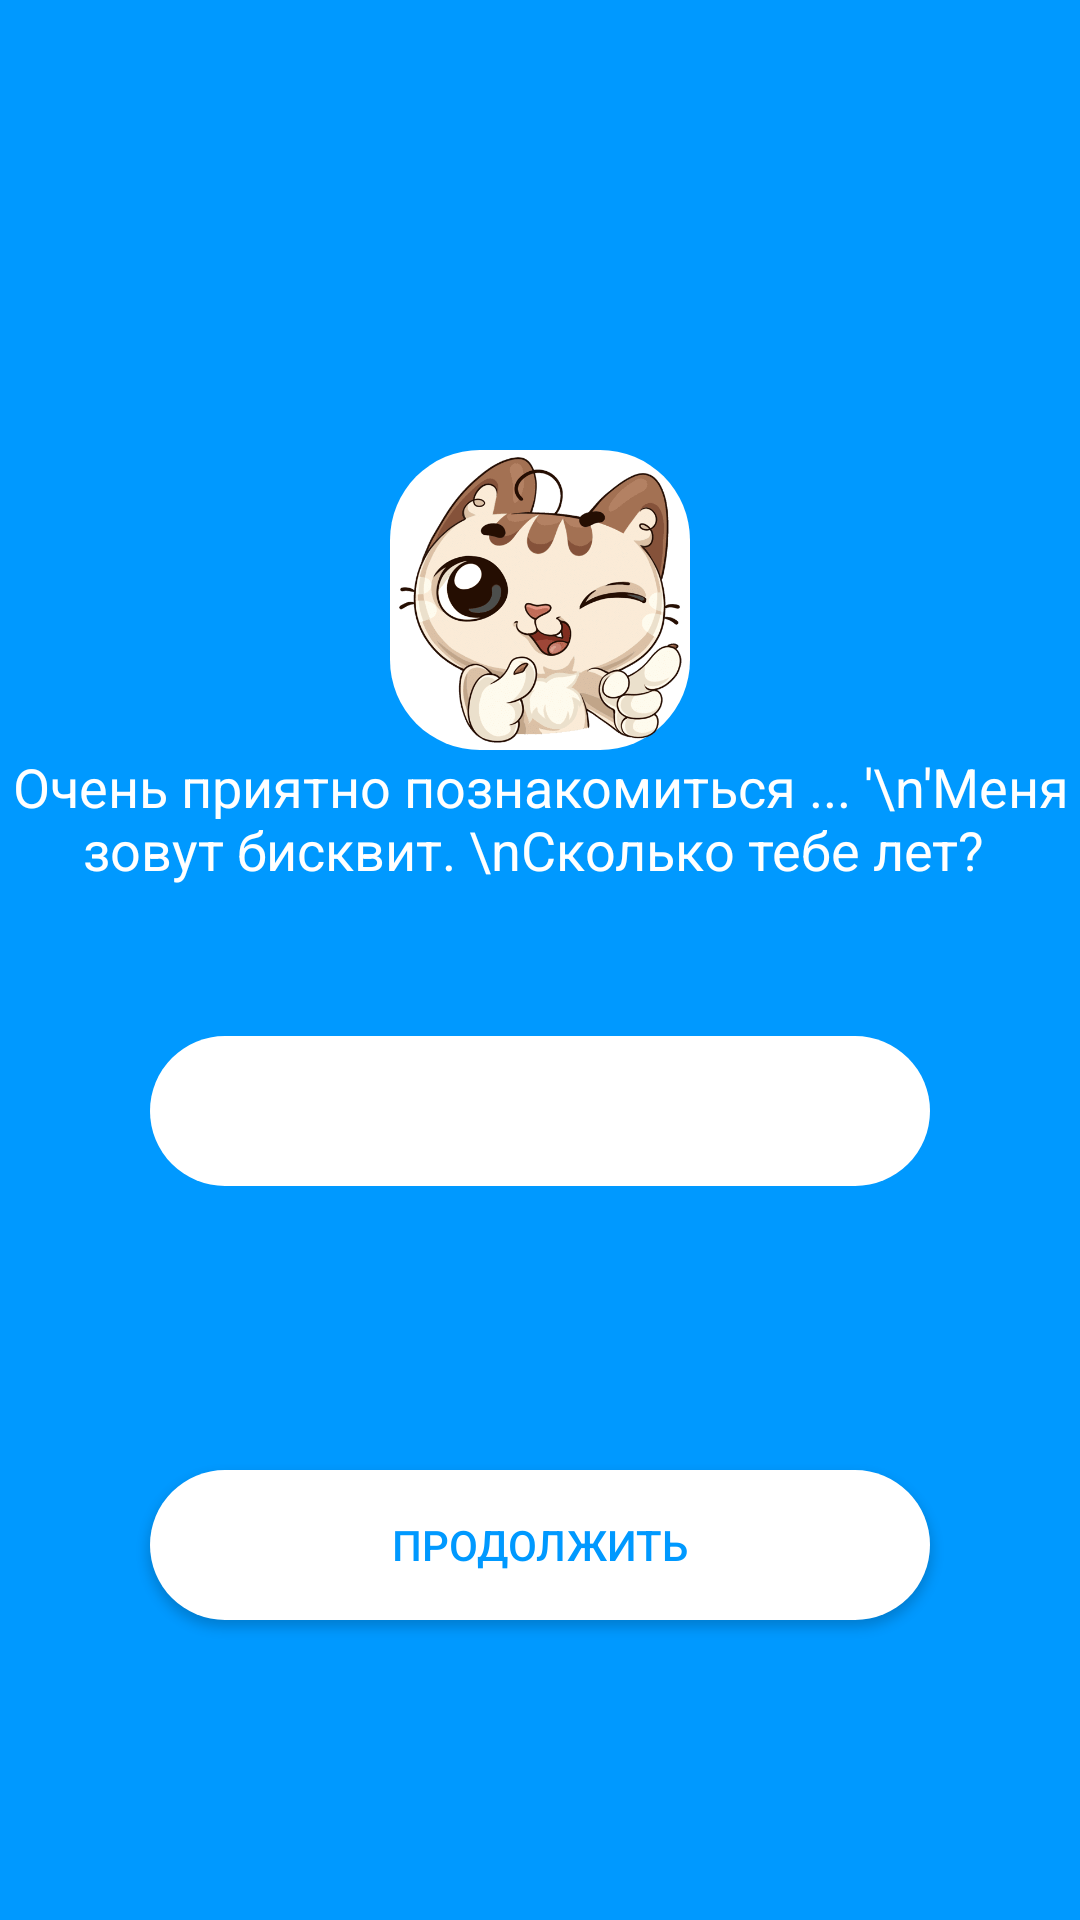

Locate icon controls on the screen. Image size 1080px x 1920px, boxes as [x1=x1, y1=y1, x2=x2, y2=y2].
cat: [x1=390, y1=450, x2=690, y2=750]
